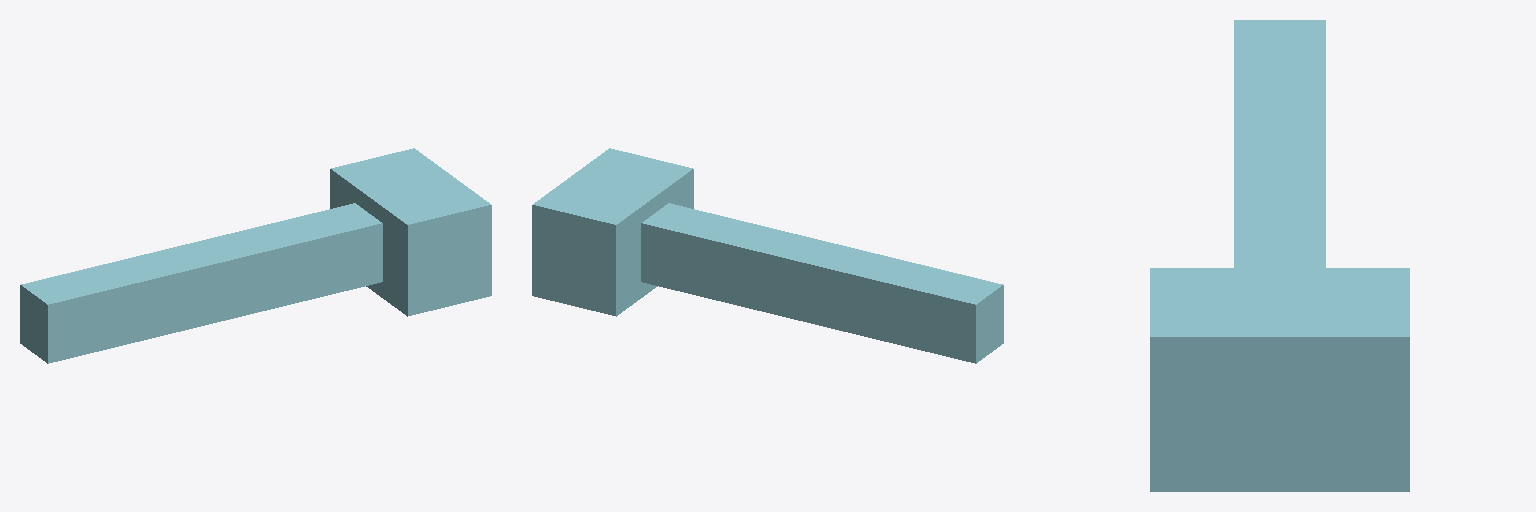
The robot description file, URDF, robot "cuboid_hammer_v014":
<?xml version="1.0"?>
<robot name="cuboid_hammer_v014">

  <link name="cuboid_hammer_v014">
    <!-- Handle -->
    <visual>
      <origin xyz="0 0 0" rpy="0 0 0"/>
      <geometry>
        <box size="0.15340681097007908 0.021800957215512836 0.025835390258946753"/>
      </geometry>
      <material name="material">
        <color rgba="0.639 0.847 0.882 1.0"/>
      </material>
    </visual>
    <collision>
      <origin xyz="0 0 0" rpy="0 0 0"/>
      <geometry>
        <box size="0.15340681097007908 0.021800957215512836 0.025835390258946753"/>
      </geometry>
    </collision>

    <!-- Head -->
    <visual>
      <origin xyz="0.09594095009006728 0 0" rpy="0 0 0"/>
      <geometry>
        <box size="0.03847508921005549 0.061289024532352125 0.04004179100413454"/>
      </geometry>
      <material name="material">
        <color rgba="0.639 0.847 0.882 1.0"/>
      </material>
    </visual>
    <collision>
      <origin xyz="0.09594095009006728 0 0" rpy="0 0 0"/>
      <geometry>
        <box size="0.03847508921005549 0.061289024532352125 0.04004179100413454"/>
      </geometry>
    </collision>

    <inertial>
      <density value="400.0"/>
    </inertial>
  </link>

</robot>

--- Facts derived from the render (not from the file) ---
3 views of the same robot in one strip: view 1: azimuth 30°, elevation 25°; view 2: azimuth 150°, elevation 25°; view 3: azimuth 270°, elevation 25° (orthographic).
Model cuboid_hammer_v014 with 1 links and 0 joints (none), rooted at cuboid_hammer_v014, posed all joints at 0.
Links seen in each view (by area): view 1: cuboid_hammer_v014; view 2: cuboid_hammer_v014; view 3: cuboid_hammer_v014.
Link boxes in pixels (box(x1,y1,x2,y2)): cuboid_hammer_v014: box(20, 148, 491, 363); cuboid_hammer_v014: box(532, 148, 1003, 363); cuboid_hammer_v014: box(1150, 20, 1409, 491).
Bounding box of the posed robot: 0.1919 × 0.0613 × 0.04 m (x, y, z).
Geometry: primitives only (box / cylinder / sphere), no mesh files.
